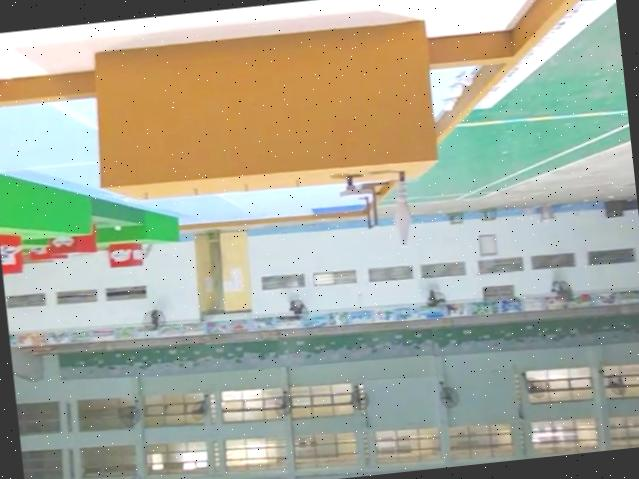Hand: (334, 171, 372, 201)
Sph: (386, 167, 414, 249)
